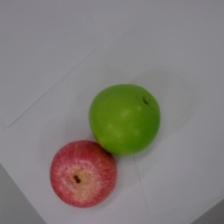green: (88, 82, 161, 155)
red: (49, 138, 117, 208)
